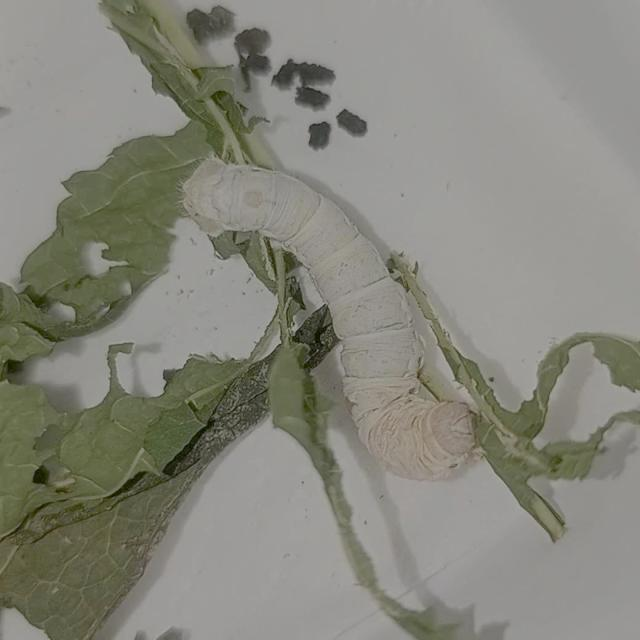Healthy: (180, 152, 485, 488)
